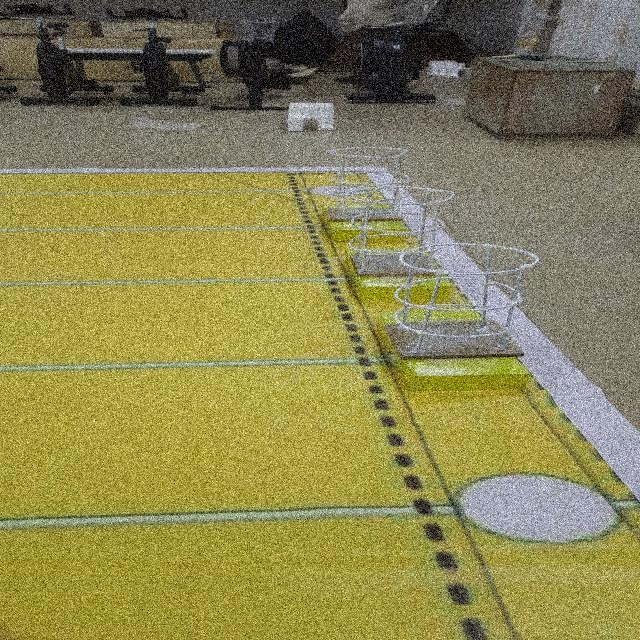silo: (384, 239, 549, 372), (334, 179, 469, 281), (315, 140, 412, 226)
